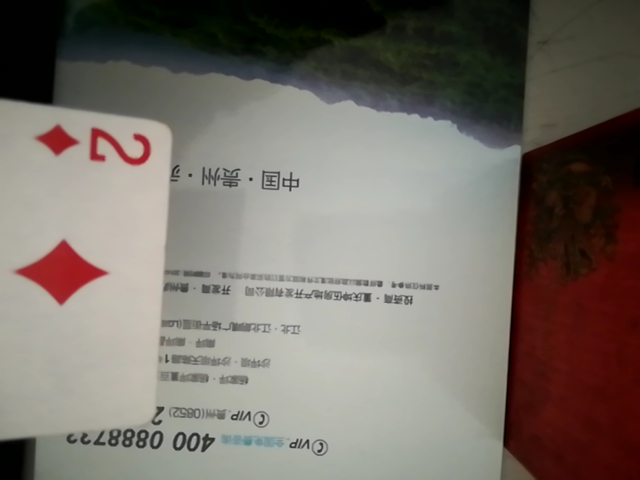fk 2: (1, 76, 179, 447)
